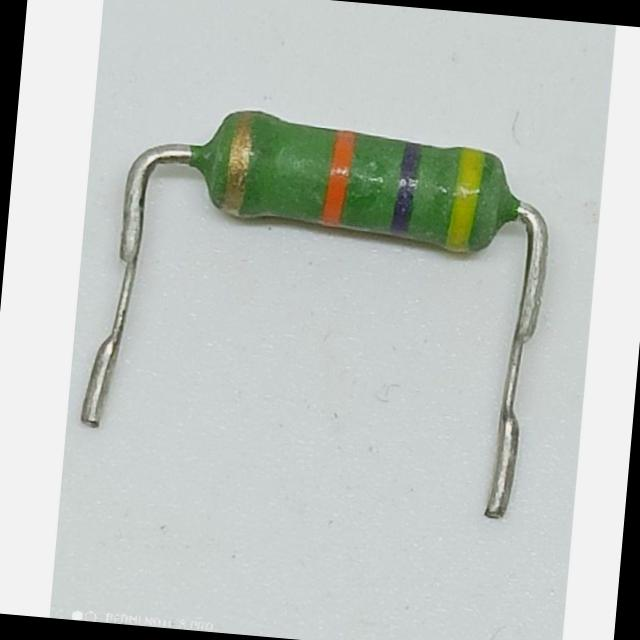Resistor: (218, 112, 515, 251)
gold: (221, 111, 252, 217)
orange: (321, 129, 357, 228)
purple: (388, 140, 422, 238)
yellow: (445, 147, 484, 252)
